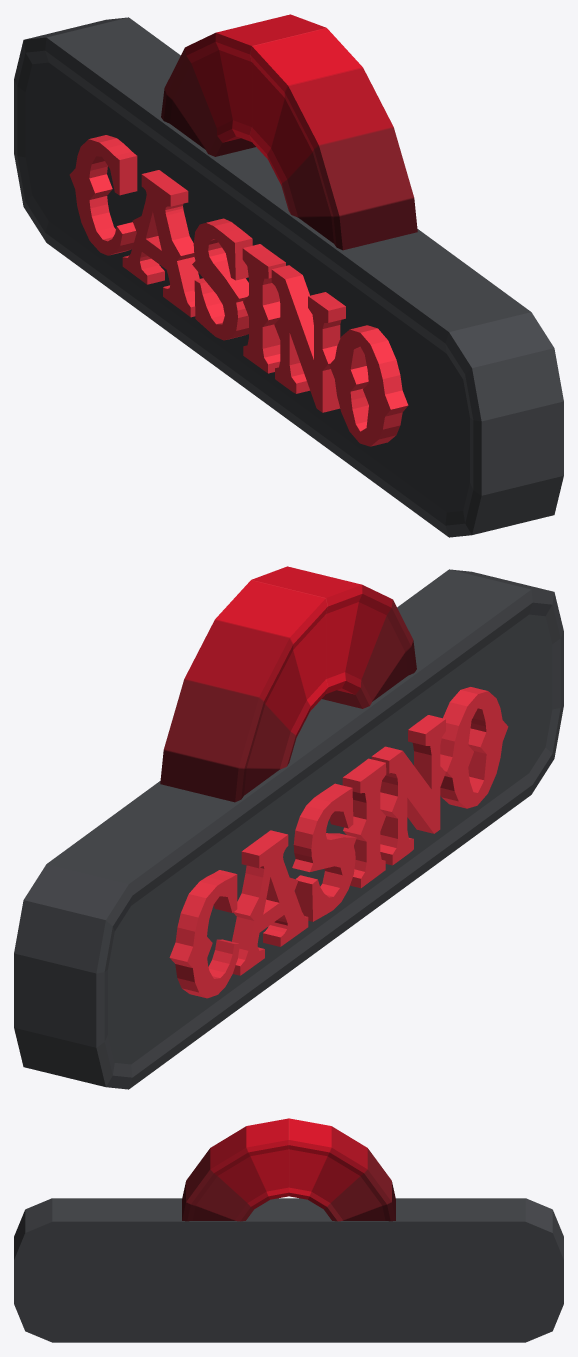
File: Sign_casino.fbx
The picture shows the model from 3 angles, top to bottom: view 1: azimuth 30°, elevation 25°; view 2: azimuth 150°, elevation 25°; view 3: azimuth 270°, elevation 25°; orthographic projection. The views are drawn at different scales.
Parts seen in each view (by area): view 1: Sign_casino, Sign_casino_text; view 2: Sign_casino, Sign_casino_text; view 3: Sign_casino.
Boxes of the visible parts, x1,y1,x2,y2 form: Sign_casino: (14,14,563,537); Sign_casino_text: (69,135,408,446); Sign_casino: (14,566,563,1089); Sign_casino_text: (169,687,508,998); Sign_casino: (14,1118,563,1342).
Size of the model in its own units: 61 by 200 by 494.
